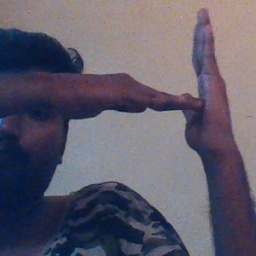Z: (126, 7, 237, 159)
